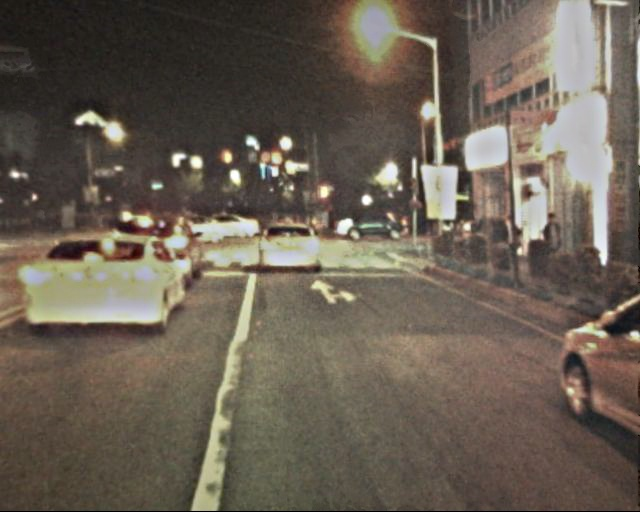person: (36, 202, 129, 239), (539, 212, 569, 284), (498, 212, 523, 271), (266, 209, 311, 230)
